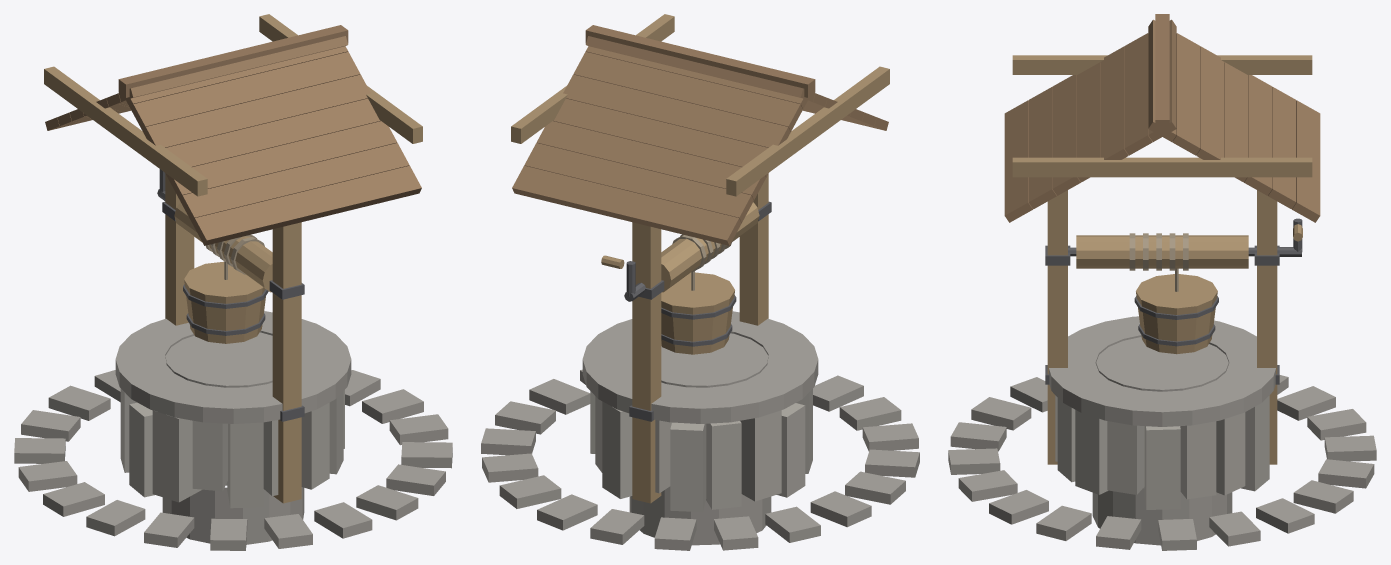
Rendered from town_well_t2.glb.
3 views of the same model, side by side, from view 1: azimuth 30°, elevation 25°; view 2: azimuth 150°, elevation 25°; view 3: azimuth 270°, elevation 25° (orthographic). The views are drawn at different scales.
Parts seen in each view (by area): view 1: well_t2_stone2, well_t2_trim, well_t2_wood, well_t2_stone, well_t2_iron, well_t2_rope; view 2: well_t2_stone2, well_t2_trim, well_t2_wood, well_t2_stone, well_t2_iron, well_t2_rope; view 3: well_t2_stone2, well_t2_trim, well_t2_wood, well_t2_stone, well_t2_iron, well_t2_rope.
Part boxes in pixels (<box>): well_t2_stone2: <box>14,311,452,550</box>; well_t2_trim: <box>45,25,421,245</box>; well_t2_wood: <box>44,14,422,503</box>; well_t2_stone: <box>120,388,344,508</box>; well_t2_iron: <box>157,169,304,421</box>; well_t2_rope: <box>206,234,264,279</box>; well_t2_stone2: <box>481,311,919,550</box>; well_t2_trim: <box>512,25,888,245</box>; well_t2_wood: <box>511,14,889,503</box>; well_t2_stone: <box>590,389,812,512</box>; well_t2_iron: <box>624,201,771,421</box>; well_t2_rope: <box>672,234,732,290</box>; well_t2_stone2: <box>948,316,1376,550</box>; well_t2_trim: <box>1004,14,1320,222</box>; well_t2_wood: <box>1012,55,1312,464</box>; well_t2_stone: <box>1055,395,1269,509</box>; well_t2_iron: <box>1045,218,1302,384</box>; well_t2_rope: <box>1129,233,1188,291</box>.
Bounding box in the file's own units: 2.09 × 2.42 × 2.09.
